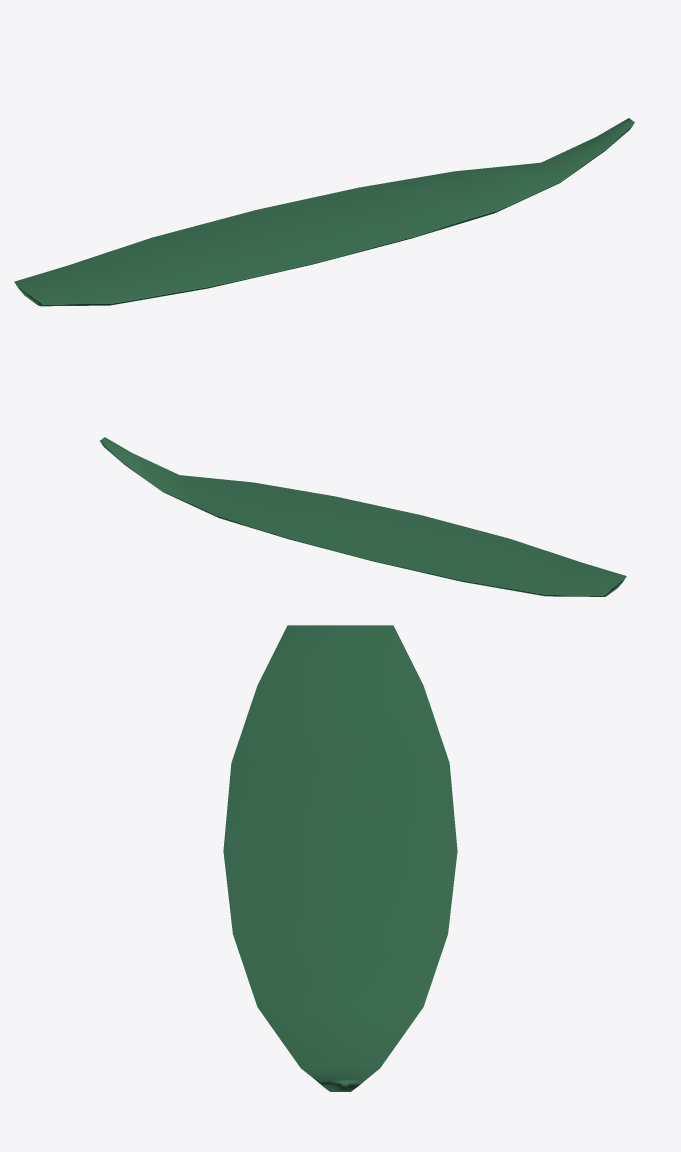
The model's file is lakeboat_physics.dae.
3 renders of one model, top to bottom at view 1: azimuth 30°, elevation 25°; view 2: azimuth 150°, elevation 25°; view 3: azimuth 270°, elevation 25°, orthographic. The views are drawn at different scales.
Visible parts, largest first — view 1: lakeboat; view 2: lakeboat; view 3: lakeboat.
Part boxes in pixels (x1=…): lakeboat: x1=14, y1=118, x2=634, y2=306; lakeboat: x1=100, y1=437, x2=626, y2=596; lakeboat: x1=223, y1=625, x2=457, y2=1091.
Bounding box in the file's own units: 4.44 × 1.39 × 0.8298.
